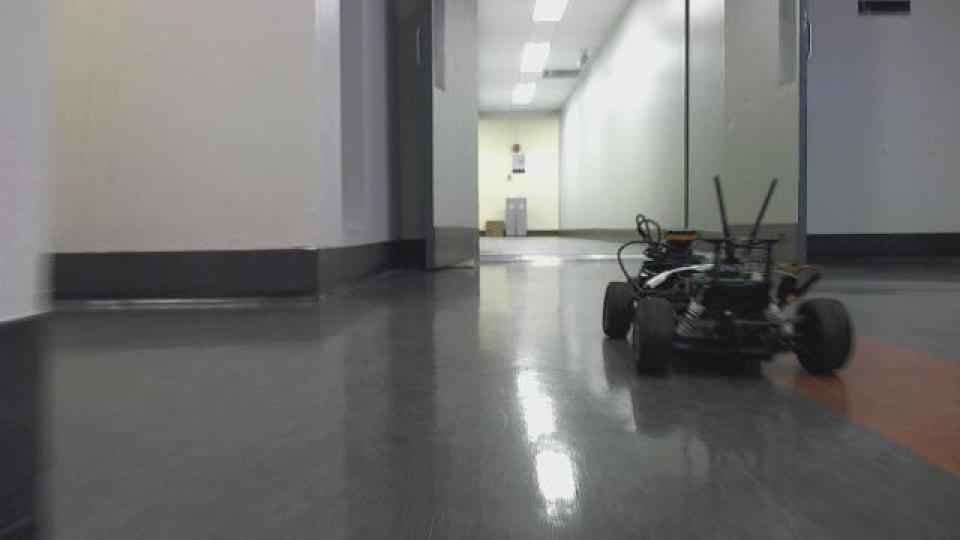car: (598, 172, 856, 379)
